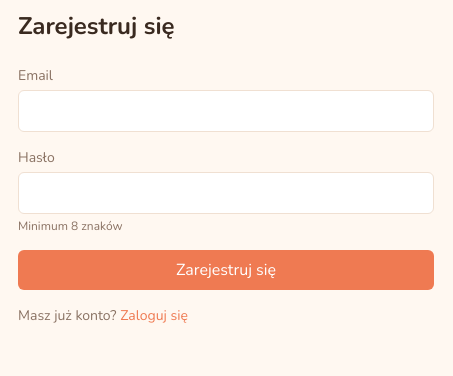
Test: RegisterPage shows validation error for short password
Type "test@example.com" into the field labelled "Email" at {"x": 226, "y": 111}, box [18,90,434,132]
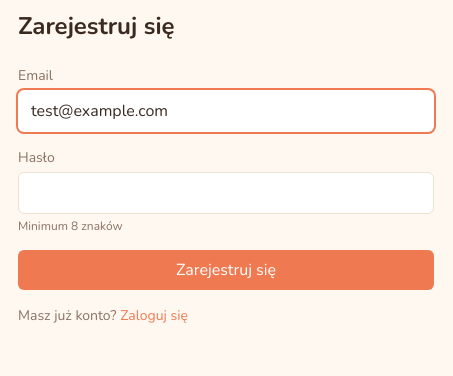
Type "short" into the password field labelled "Hasło" at {"x": 226, "y": 193}, box [18,172,434,214]
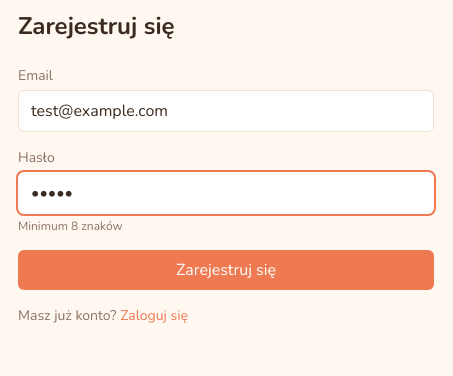
Click the button "Zarejestruj się" at {"x": 226, "y": 270}, box [18,250,434,290]
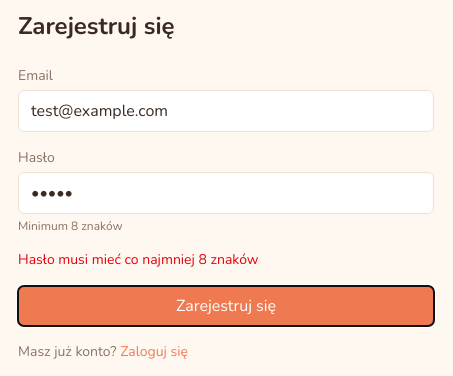
Expected: the text "Hasło musi mieć co najmniej 8 znaków" is shown, [18,250,259,269]
